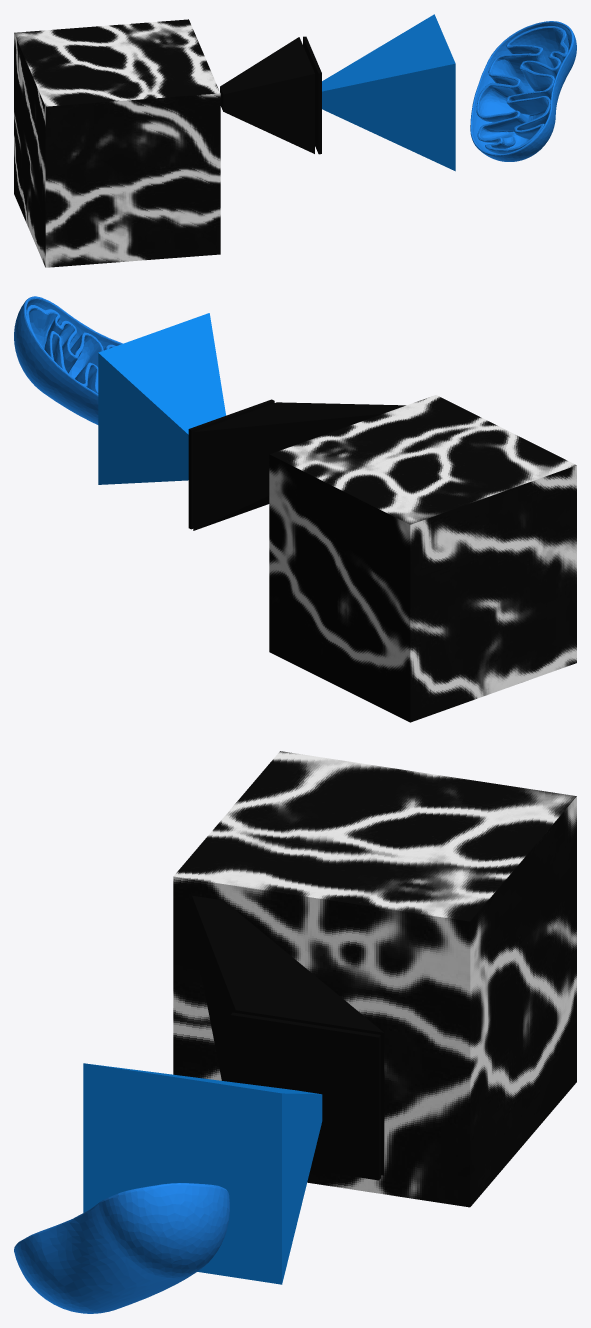
3 views of the same model, one above another, from view 1: azimuth 30°, elevation 25°; view 2: azimuth 150°, elevation 25°; view 3: azimuth 270°, elevation 25° (orthographic). The views are drawn at different scales.
Parts seen in each view (by area): view 1: Cube, Wireframe.001, Mitochondria, Wireframe, Cube.001; view 2: Cube, Wireframe.001, Wireframe, Mitochondria, Cube.001; view 3: Cube, Wireframe.001, Mitochondria, Cube.001, Wireframe.
Part boxes in pixels (x1,y1,x2,y2): Cube: (14,19,220,267); Wireframe.001: (322,14,455,171); Mitochondria: (470,21,576,161); Wireframe: (220,37,314,153); Cube.001: (303,36,321,154); Cube: (269,395,576,722); Wireframe.001: (98,313,225,484); Wireframe: (193,402,405,530); Mitochondria: (14,296,122,424); Cube.001: (188,399,274,529); Cube: (173,751,576,1207); Wireframe.001: (83,1063,322,1284); Mitochondria: (14,1183,229,1313); Cube.001: (230,1012,380,1180); Wireframe: (192,895,384,1175).
Bounding box in the file's own units: 1.59 × 0.5 × 0.8924.
4 materials, 1 textured.
